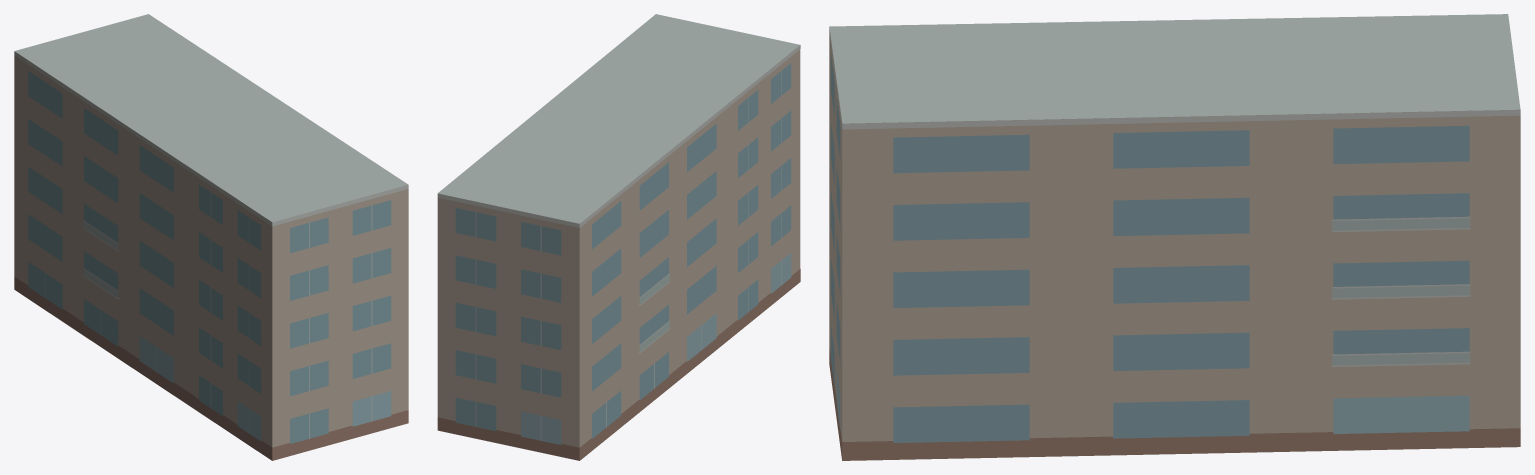
The model's file is survey-upis-32742158.glb.
3 renders of one model, left to right at view 1: azimuth 30°, elevation 25°; view 2: azimuth 150°, elevation 25°; view 3: azimuth 270°, elevation 25°, orthographic. The views are drawn at different scales.
Visible parts, largest first — view 1: survey-upis-32742158.tmp; view 2: survey-upis-32742158.tmp; view 3: survey-upis-32742158.tmp.
Part boxes in pixels (x1,y1,x2,y2): survey-upis-32742158.tmp: (14,14,408,460); survey-upis-32742158.tmp: (437,14,800,460); survey-upis-32742158.tmp: (829,14,1520,460).
Size of the model in its own units: 9.8 by 14.05 by 26.11.
